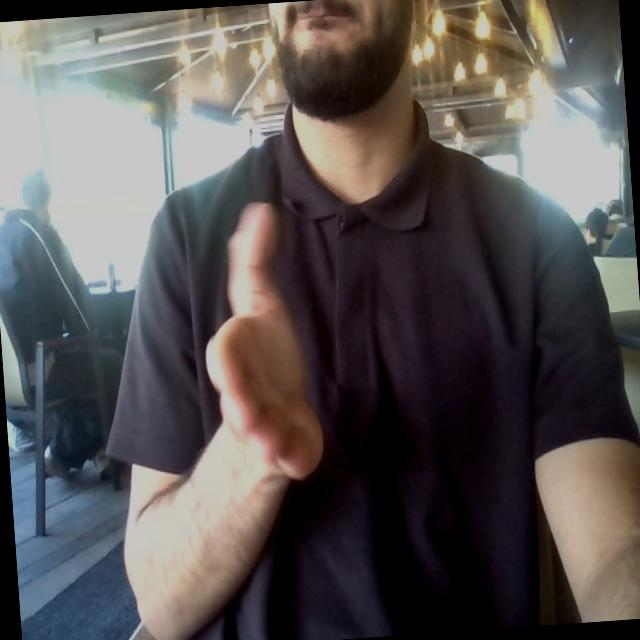Hand: (206, 203, 322, 480)
